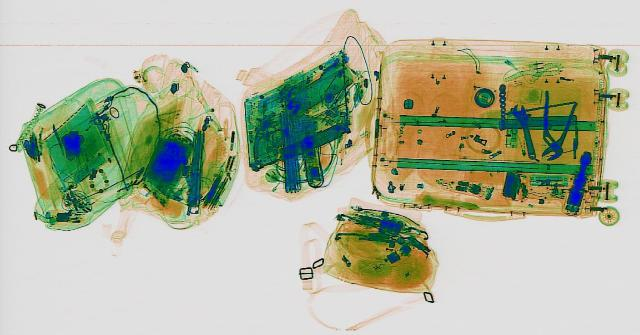Wrench: (510, 103, 542, 159)
